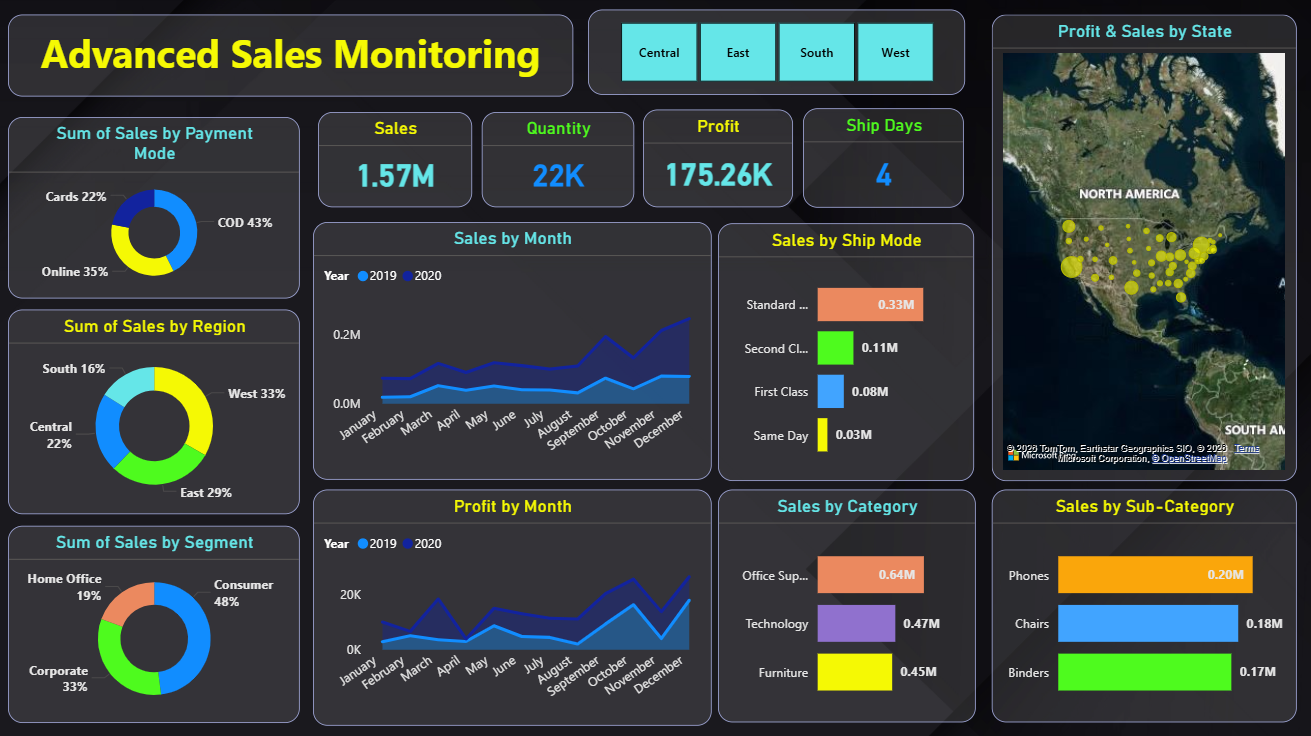

This screenshot's page, from the dashboard's own definition file:
{"tool":"powerbi","page":{"name":"Page 1","canvas":[1280,720],"ordinal":0},"visuals":[{"type":"barChart","title":" Sales by Category","fields":{"Y":["Sum(SuperStore_Sales_Dataset.Sales)"],"Category":["SuperStore_Sales_Dataset.Category"]},"box":[700,475,248.6,225],"z":0},{"type":"barChart","title":" Sales by Sub-Category","fields":{"Y":["Sum(SuperStore_Sales_Dataset.Sales)"],"Category":["SuperStore_Sales_Dataset.Sub-Category"]},"box":[963.9,475,294.4,225],"z":1000},{"type":"barChart","title":" Sales by Ship Mode","fields":{"Y":["Sum(SuperStore_Sales_Dataset.Sales)"],"Category":["SuperStore_Sales_Dataset.Ship Mode"]},"box":[700,218.1,247.2,248.6],"z":2000},{"type":"stackedAreaChart","title":"Sales by Month","fields":{"Y":["Sum(SuperStore_Sales_Dataset.Sales)"],"Category":["SuperStore_Sales_Dataset.Order Date.Variation.Date Hierarchy.Month","SuperStore_Sales_Dataset.Order Date.Variation.Date Hierarchy.Day"],"Series":["SuperStore_Sales_Dataset.Order Date.Variation.Date Hierarchy.Year"]},"box":[308.3,216.7,384.7,248.6],"z":3000},{"type":"stackedAreaChart","title":"Profit by Month","fields":{"Category":["SuperStore_Sales_Dataset.Order Date.Variation.Date Hierarchy.Month","SuperStore_Sales_Dataset.Order Date.Variation.Date Hierarchy.Day"],"Series":["SuperStore_Sales_Dataset.Order Date.Variation.Date Hierarchy.Year"],"Y":["Sum(SuperStore_Sales_Dataset.Profit)"]},"box":[308.3,475,384.7,227.8],"z":4000},{"type":"map","title":"Profit & Sales by State","fields":{"Size":["Sum(SuperStore_Sales_Dataset.Sales)"],"Category":["SuperStore_Sales_Dataset.State"]},"box":[963.9,16.7,294.4,450],"z":5000},{"type":"donutChart","fields":{"Category":["SuperStore_Sales_Dataset.Segment"],"Y":["Sum(SuperStore_Sales_Dataset.Sales)"]},"box":[13.9,509.7,281.9,190.3],"z":6000},{"type":"donutChart","fields":{"Y":["Sum(SuperStore_Sales_Dataset.Sales)"],"Category":["SuperStore_Sales_Dataset.Payment Mode"]},"box":[13.9,115.3,281.9,175],"z":7000},{"type":"slicer","fields":{"Values":["SuperStore_Sales_Dataset.Region"]},"box":[573.8,12.5,363.8,82.5],"z":8000},{"type":"textbox","box":[13.9,16.7,545.8,79.2],"z":9000},{"type":"card","title":"Sales","fields":{"Values":["Sum(SuperStore_Sales_Dataset.Sales)"]},"box":[313.9,111.1,148.6,91.7],"z":10000},{"type":"card","title":"Quantity","fields":{"Values":["Sum(SuperStore_Sales_Dataset.Quantity)"]},"box":[472.2,111.1,147.2,91.7],"z":11000},{"type":"card","title":"Profit","fields":{"Values":["Sum(SuperStore_Sales_Dataset.Profit)"]},"box":[627.8,108.3,144.4,94.4],"z":12000},{"type":"card","title":"Ship Days","fields":{"Values":["Avg(SuperStore_Sales_Dataset.AvgDelivery)"]},"box":[781.9,106.9,155.6,95.8],"z":13000},{"type":"donutChart","fields":{"Y":["Sum(SuperStore_Sales_Dataset.Sales)"],"Category":["SuperStore_Sales_Dataset.Region"]},"box":[13.9,301.4,281.9,197.2],"z":14000}]}

Visuals, with their boxes in screenshot pixels (x1, y1, x2, y2), scaled from the page's 1280x720 canvas onto the 1311x736 screenshot:
" Sales by Category" barChart: rect(717, 486, 972, 716)
" Sales by Sub-Category" barChart: rect(987, 486, 1289, 716)
" Sales by Ship Mode" barChart: rect(717, 223, 970, 477)
"Sales by Month" stackedAreaChart: rect(316, 222, 710, 476)
"Profit by Month" stackedAreaChart: rect(316, 486, 710, 718)
"Profit & Sales by State" map: rect(987, 17, 1289, 477)
donutChart - SuperStore_Sales_Dataset.Segment x Sum(SuperStore_Sales_Dataset.Sales): rect(14, 521, 303, 716)
donutChart - Sum(SuperStore_Sales_Dataset.Sales) x SuperStore_Sales_Dataset.Payment Mode: rect(14, 118, 303, 297)
slicer - SuperStore_Sales_Dataset.Region: rect(588, 13, 960, 97)
textbox: rect(14, 17, 573, 98)
"Sales" card: rect(322, 114, 474, 207)
"Quantity" card: rect(484, 114, 634, 207)
"Profit" card: rect(643, 111, 791, 207)
"Ship Days" card: rect(801, 109, 960, 207)
donutChart - Sum(SuperStore_Sales_Dataset.Sales) x SuperStore_Sales_Dataset.Region: rect(14, 308, 303, 510)
